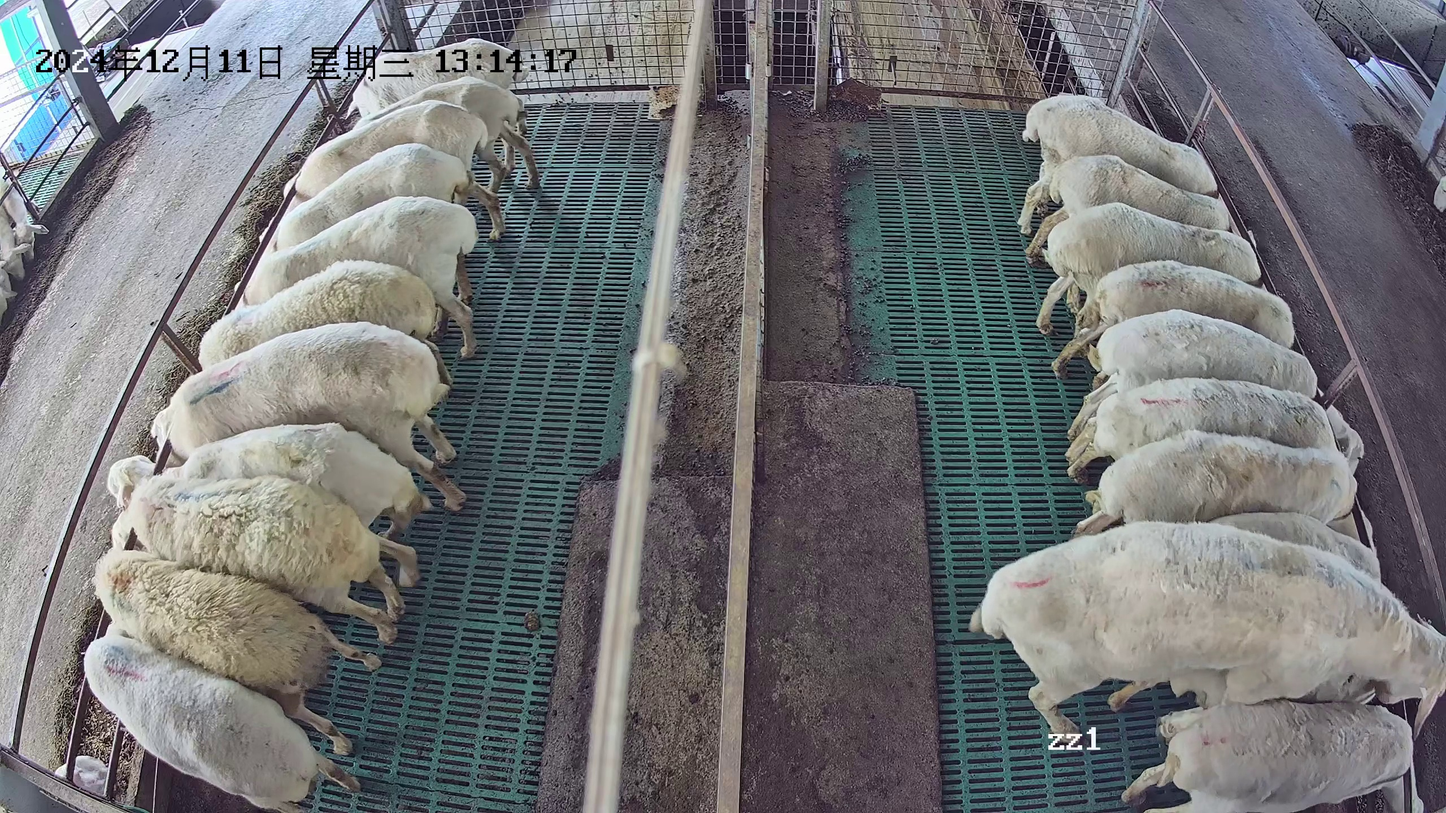Smounting: (967, 518, 1446, 741)
mounted: (1104, 658, 1382, 713)
